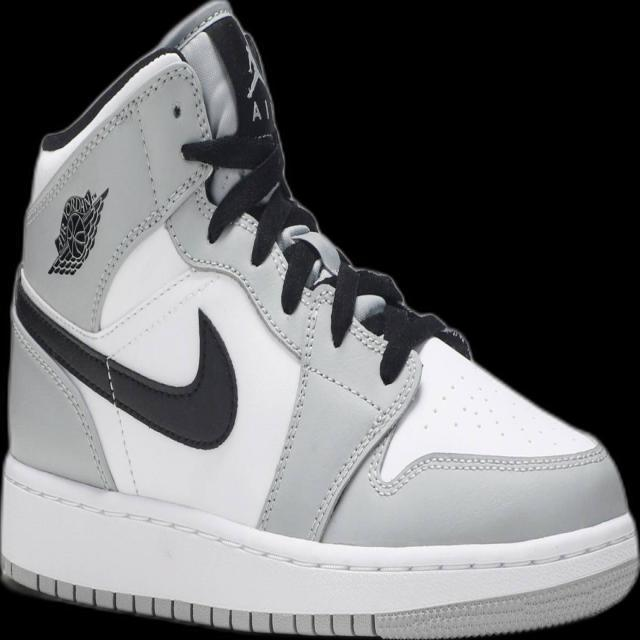J1_InsoleChar: (0, 0, 638, 639)
J1_ShoeLogo: (45, 186, 109, 276)
J1_StitchPattern: (1, 459, 638, 638), (176, 20, 471, 381), (251, 225, 414, 536), (23, 56, 211, 222), (1, 558, 373, 637), (305, 347, 421, 541), (254, 279, 332, 531), (8, 312, 117, 492), (267, 221, 408, 353), (366, 440, 610, 497), (99, 354, 143, 496)
